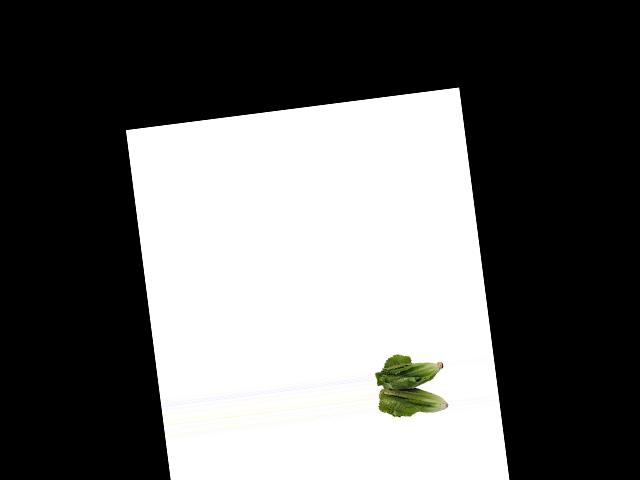lettuce: (373, 355, 450, 423)
